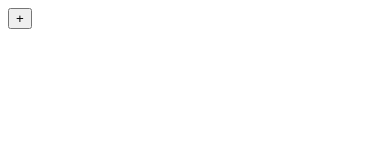
Test: BlockedButton › a tap opens the reason in a bubble, another tap closes it, and it closes on its own
Later steps or results of the test are not shown.
Click the button named "Criar canal": (20, 18) [8,8,32,29]
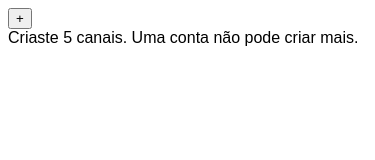
Result: the text with class "dica-tocada" reads "Criaste 5 canais. Uma conta não pode criar mais." at [8,29,358,46]
Click the button named "Criar canal": (20, 18) [8,8,32,29]
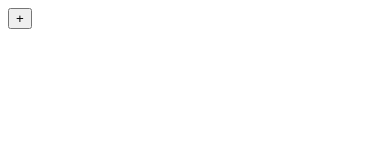
Result: the text with class "dica-tocada" is gone
